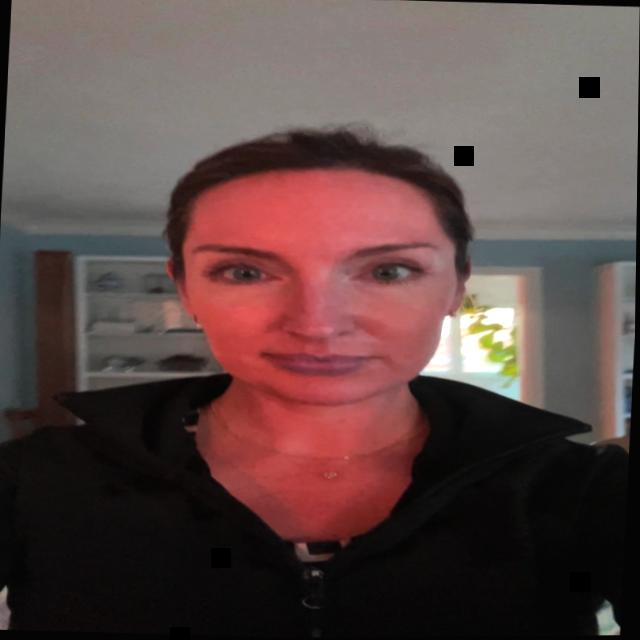NO-Mask: (149, 138, 483, 442)
